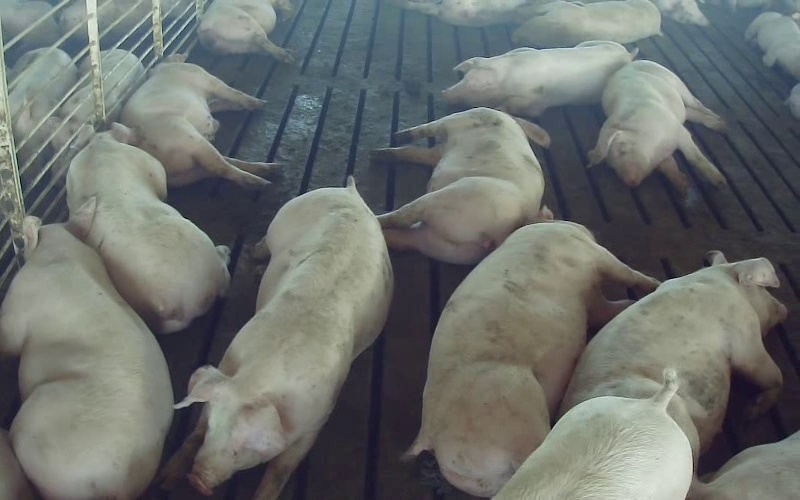pig: (162, 178, 392, 499), (406, 208, 658, 495), (0, 198, 172, 499), (559, 251, 786, 461), (494, 369, 692, 499), (121, 55, 279, 185), (588, 60, 725, 194), (442, 41, 637, 116), (512, 0, 660, 47), (198, 0, 293, 62)
